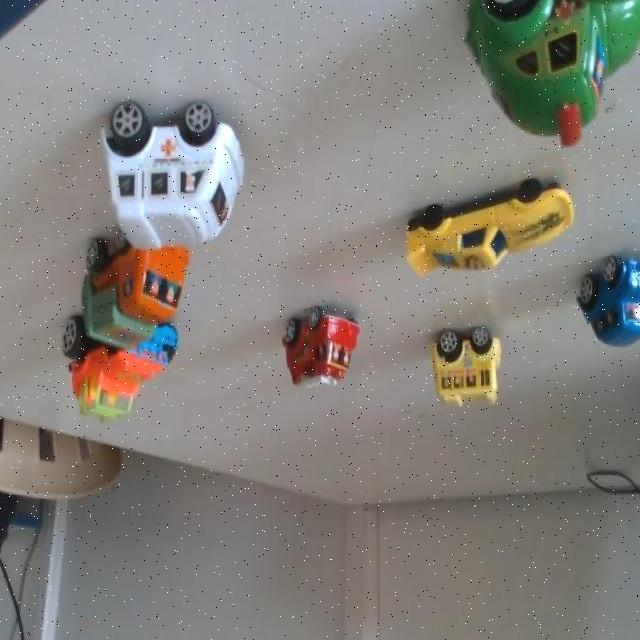car: (114, 73, 275, 273), (424, 163, 566, 292), (508, 0, 640, 127), (280, 285, 363, 404), (100, 314, 188, 426), (424, 309, 516, 416), (112, 231, 184, 358), (596, 251, 640, 350)
